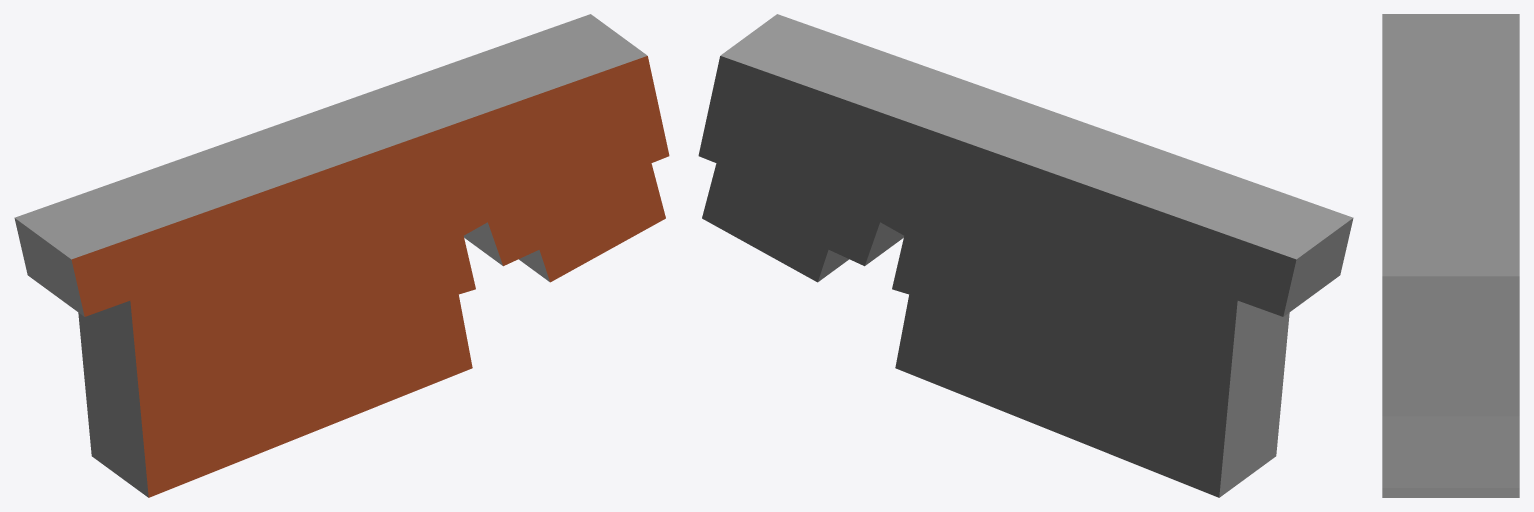
Rendered from construction_3352_assumed_A_Casa_h6m.obj.
The picture shows the model from 3 angles, left to right: view 1: azimuth 30°, elevation 25°; view 2: azimuth 150°, elevation 25°; view 3: azimuth 270°, elevation 25°; orthographic projection. The views are drawn at different scales.
Visible parts, largest first — view 1: construction_3352_assumed_A_Casa; view 2: construction_3352_assumed_A_Casa; view 3: construction_3352_assumed_A_Casa.
Boxes of the visible parts, <box> form: construction_3352_assumed_A_Casa: <box>14,14,669,497</box>; construction_3352_assumed_A_Casa: <box>698,14,1353,497</box>; construction_3352_assumed_A_Casa: <box>1382,14,1519,497</box>.
Bounding box in the file's own units: 36.33 × 18.6 × 6.
